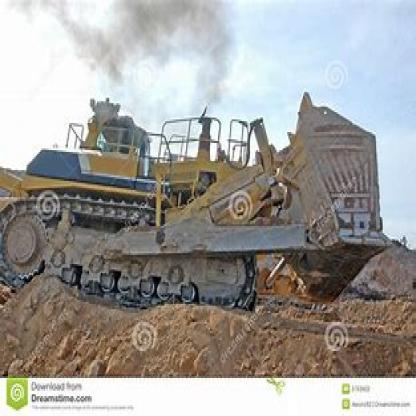bull_dozer/loader/grader: (4, 74, 389, 324)
